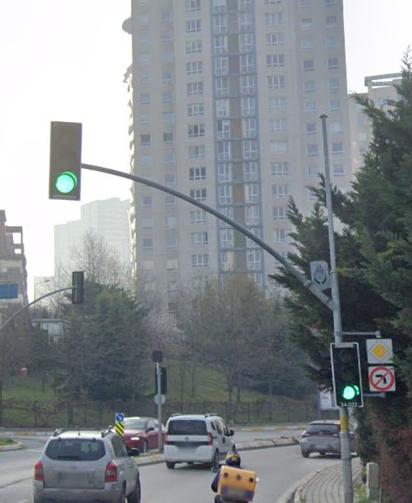greenlight: (48, 120, 82, 201), (329, 338, 362, 409)
leftturnsareforbidden: (370, 364, 396, 393)
